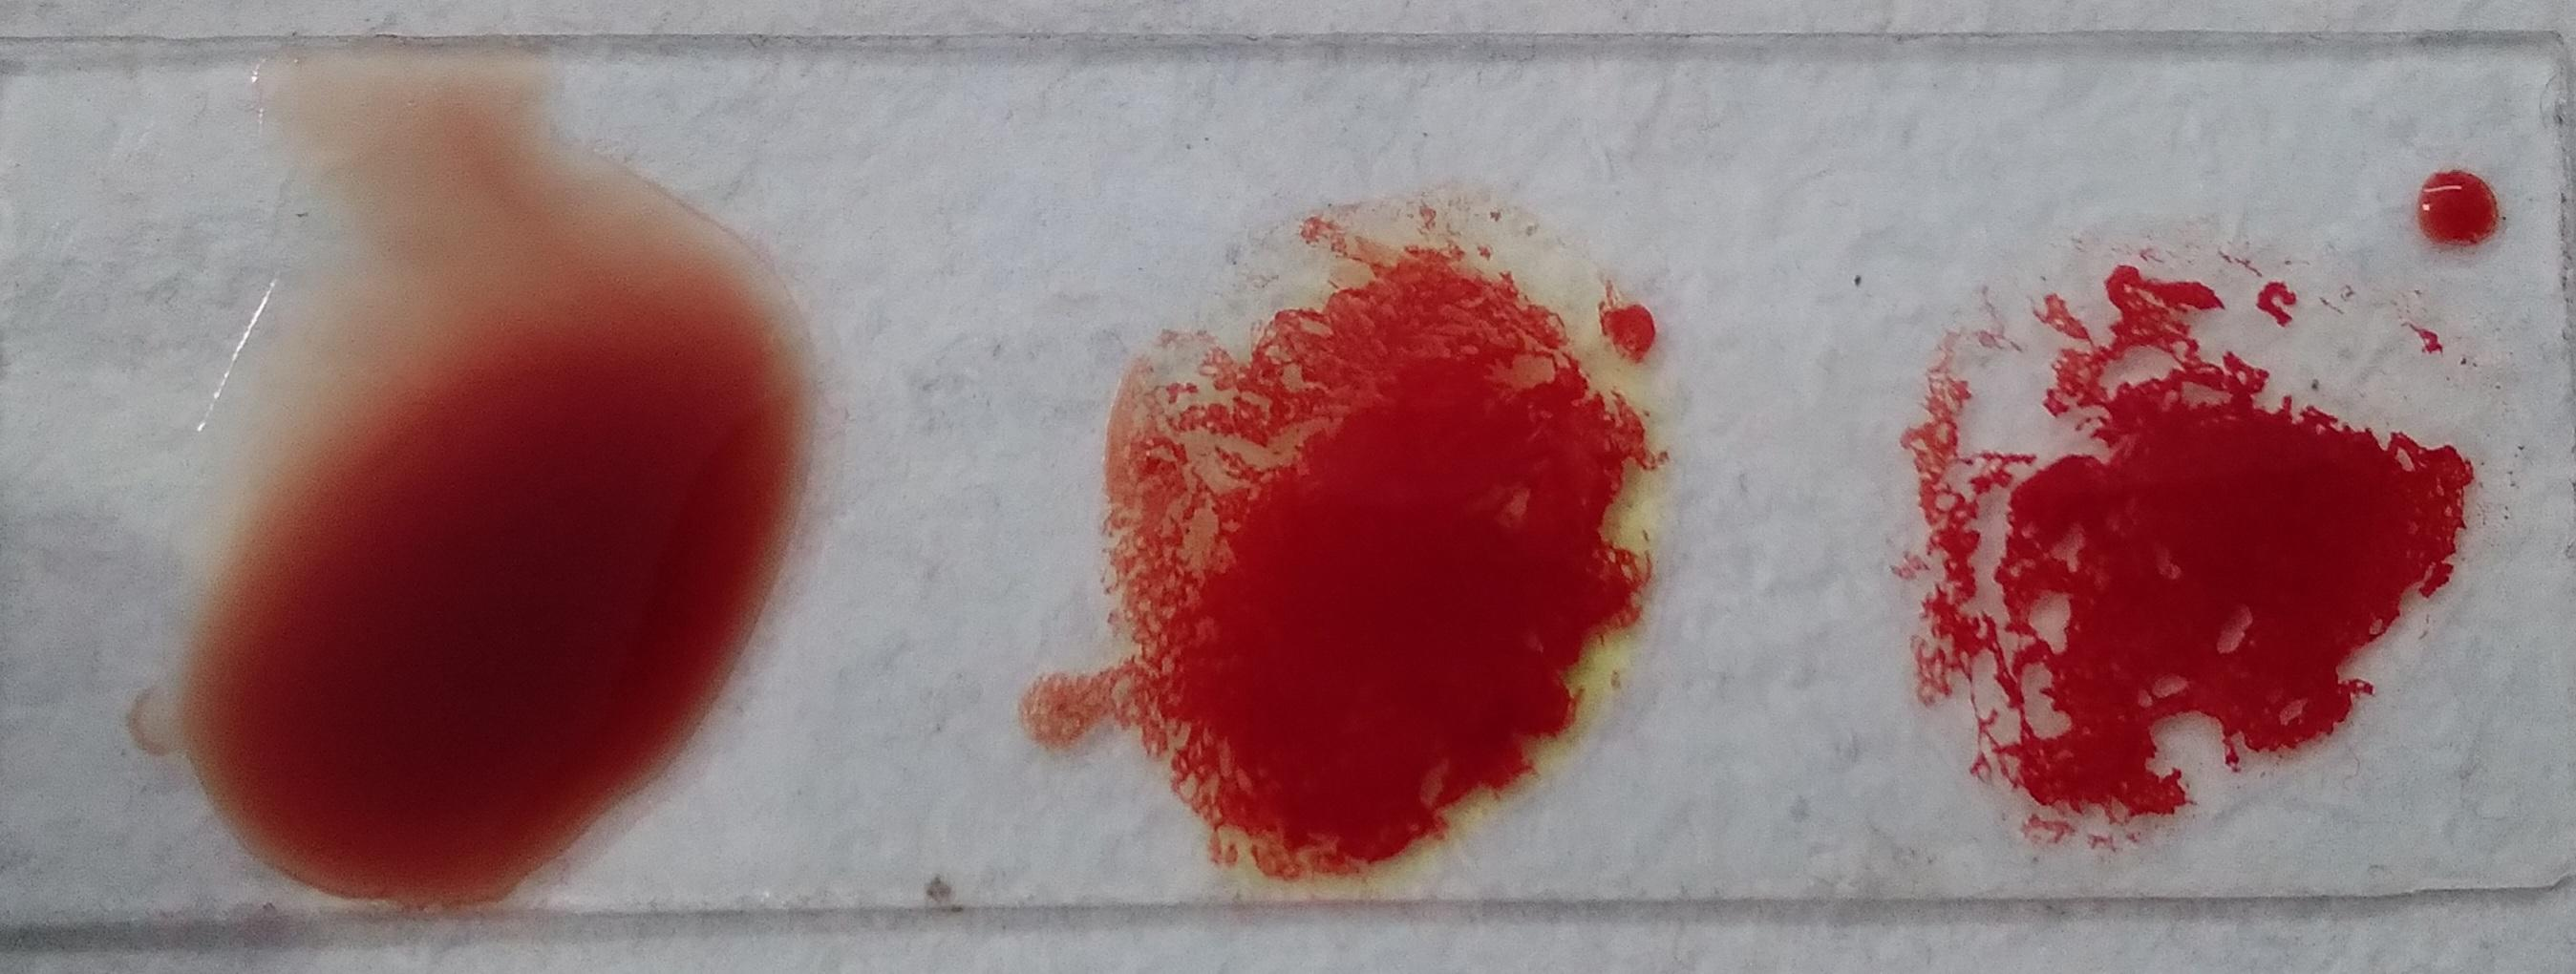B: (938, 85, 1483, 752)
D: (131, 112, 697, 785)
